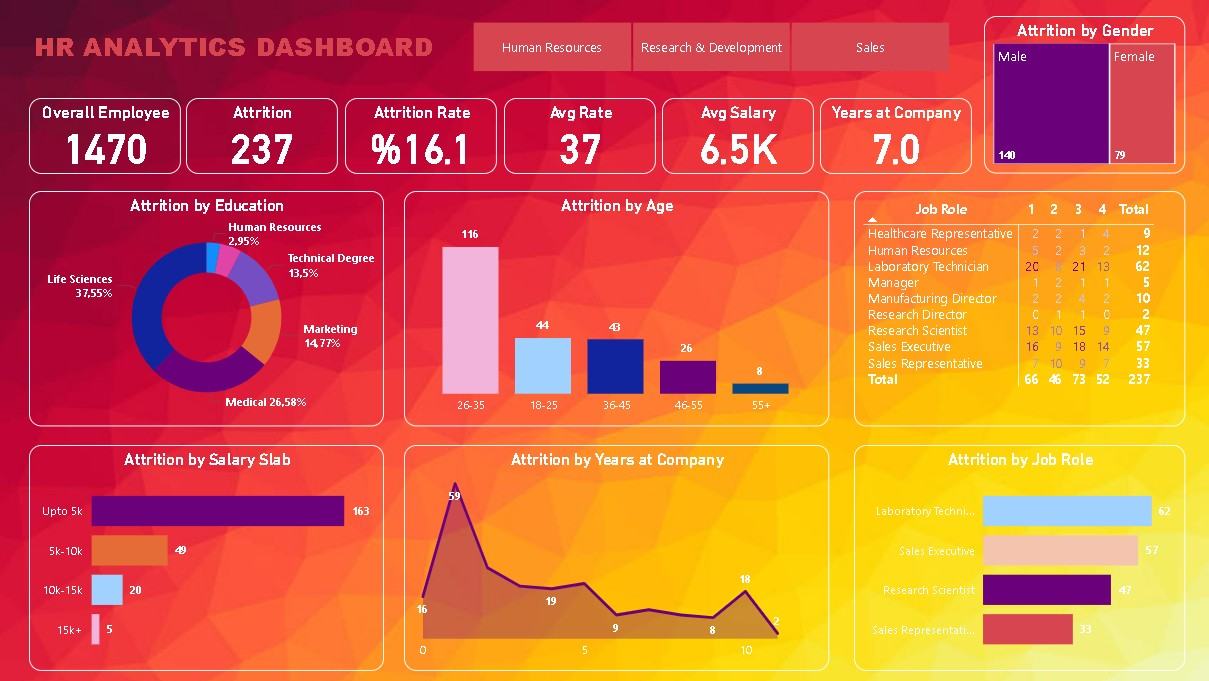

What the dashboard file says about the page in this screenshot:
{"tool":"powerbi","page":{"name":"Page 1","canvas":[1280,720],"ordinal":0},"visuals":[{"type":"card","title":"Overall Employee","fields":{"Values":["Count(HR_Analytics.EmpID)"]},"box":[31.1,103.3,160,80],"z":0},{"type":"card","title":"Attrition","fields":{"Values":["Sum(HR_Analytics.AttritionCount)"]},"box":[197,103.3,160.1,80.1],"z":1000},{"type":"card","title":"Attrition Rate","fields":{"Values":["HR_Analytics.AttritionRate"]},"box":[364.5,103.3,160.1,80.1],"z":2000},{"type":"card","title":"Avg Salary","fields":{"Values":["Avg(HR_Analytics.MonthlyIncome)"]},"box":[698.5,103.3,160.1,80.1],"z":3000},{"type":"card","title":"Avg Rate","fields":{"Values":["Avg(HR_Analytics.Age)"]},"box":[532,103.3,160.1,80.1],"z":4000},{"type":"card","title":"Years at Company","fields":{"Values":["Avg(HR_Analytics.YearsAtCompany)"]},"box":[864.9,103.3,160.1,80.1],"z":5000},{"type":"donutChart","title":"Attrition by Education","fields":{"Category":["HR_Analytics.EducationField"],"Y":["Sum(HR_Analytics.AttritionCount)"]},"box":[31.6,201.3,374,247.6],"z":6000},{"type":"columnChart","title":"Attrition by Age","fields":{"Category":["HR_Analytics.AgeGroup"],"Y":["Sum(HR_Analytics.AttritionCount)"]},"box":[426.7,201.3,447.7,247.6],"z":7000},{"type":"pivotTable","fields":{"Rows":["HR_Analytics.JobRole"],"Columns":["HR_Analytics.JobSatisfaction"],"Values":["Sum(HR_Analytics.AttritionCount)"]},"box":[900.7,201.3,348.7,247.6],"z":8000},{"type":"barChart","title":"Attrition by Salary Slab","fields":{"Category":["HR_Analytics.SalarySlab"],"Y":["Sum(HR_Analytics.AttritionCount)"]},"box":[31.6,468.8,374,238.1],"z":9000},{"type":"barChart","title":"Attrition by Job Role","fields":{"Y":["Sum(HR_Analytics.AttritionCount)"],"Category":["HR_Analytics.JobRole"]},"box":[900.7,468.8,348.7,238.1],"z":10000},{"type":"areaChart","title":"Attrition by Years at Company","fields":{"Category":["HR_Analytics.YearsAtCompany"],"Y":["Sum(HR_Analytics.AttritionCount)"]},"box":[426.7,468.8,447.7,238.1],"z":11000},{"type":"treemap","title":"Attrition by Gender","fields":{"Group":["HR_Analytics.Gender"],"Values":["Sum(HR_Analytics.AttritionCount)"]},"box":[1037.7,16.9,211.8,166.5],"z":12000},{"type":"slicer","fields":{"Values":["HR_Analytics.Department"]},"box":[474.1,16.9,551,65.3],"z":13000},{"type":"textbox","box":[31.6,25.3,442.5,65.3],"z":14000}]}

Visuals, with their boxes in screenshot pixels (x1, y1, x2, y2), scaled from the page's 1280x720 canvas onto the 1209x681 screenshot:
"Overall Employee" card: box=[29, 98, 180, 173]
"Attrition" card: box=[186, 98, 337, 173]
"Attrition Rate" card: box=[344, 98, 496, 173]
"Avg Salary" card: box=[660, 98, 811, 173]
"Avg Rate" card: box=[502, 98, 654, 173]
"Years at Company" card: box=[817, 98, 968, 173]
"Attrition by Education" donutChart: box=[30, 190, 383, 425]
"Attrition by Age" columnChart: box=[403, 190, 826, 425]
pivotTable - HR_Analytics.JobRole x HR_Analytics.JobSatisfaction: box=[851, 190, 1180, 425]
"Attrition by Salary Slab" barChart: box=[30, 443, 383, 669]
"Attrition by Job Role" barChart: box=[851, 443, 1180, 669]
"Attrition by Years at Company" areaChart: box=[403, 443, 826, 669]
"Attrition by Gender" treemap: box=[980, 16, 1180, 173]
slicer - HR_Analytics.Department: box=[448, 16, 968, 78]
textbox: box=[30, 24, 448, 86]
